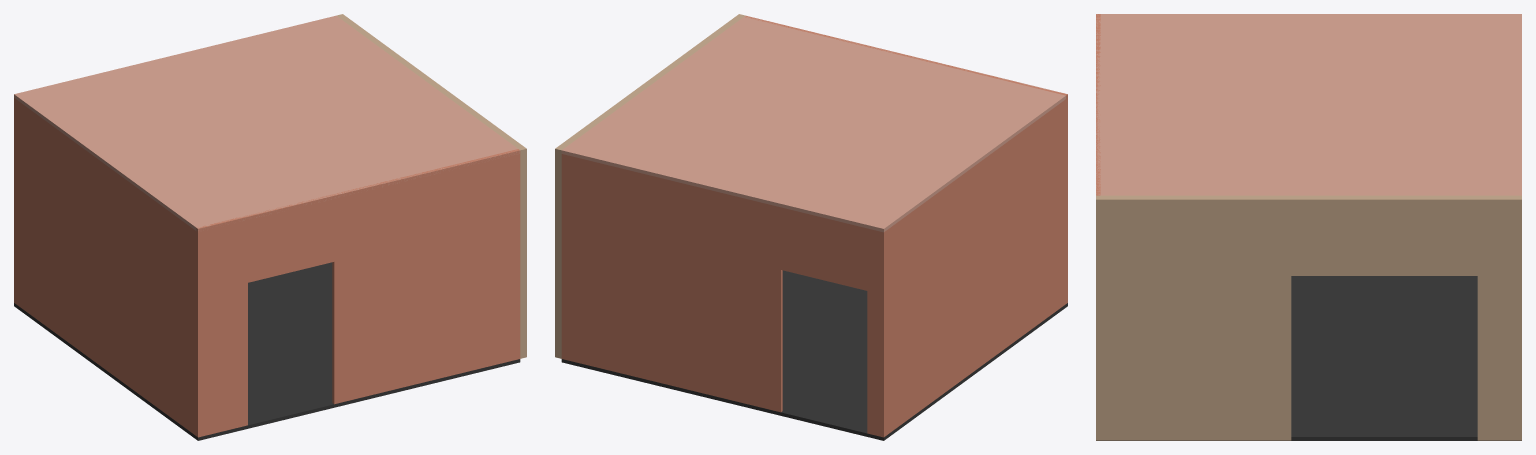
Rendered from Living00.gltf.
The picture shows the model from 3 angles, left to right: view 1: azimuth 30°, elevation 25°; view 2: azimuth 150°, elevation 25°; view 3: azimuth 270°, elevation 25°; orthographic projection. The views are drawn at different scales.
Visible parts, largest first — view 1: Living00_Roof, Living00_Wall0, Living00_Wall1, Living00_Floor, Living00_Wall3; view 2: Living00_Roof, Living00_Wall2, Living00_Wall1, Living00_Floor, Living00_Wall3, Living00_Wall0; view 3: Living00_Roof, Living00_Wall3, Living00_Floor, Living00_Wall0.
Part boxes in pixels (x1,y1,x2,y2): Living00_Roof: (14, 15, 519, 231); Living00_Wall0: (196, 149, 520, 437); Living00_Wall1: (14, 98, 201, 437); Living00_Floor: (14, 262, 520, 440); Living00_Wall3: (336, 14, 526, 358); Living00_Roof: (561, 16, 1065, 232); Living00_Wall2: (561, 154, 885, 436); Living00_Wall1: (880, 98, 1067, 437); Living00_Floor: (561, 270, 1067, 440); Living00_Wall3: (555, 14, 745, 358); Living00_Wall0: (745, 15, 1067, 303); Living00_Roof: (1096, 14, 1521, 195); Living00_Wall3: (1096, 195, 1521, 440); Living00_Floor: (1096, 276, 1521, 440); Living00_Wall0: (1096, 14, 1100, 195).
Size of the model in its own units: 99 by 61 by 96.
